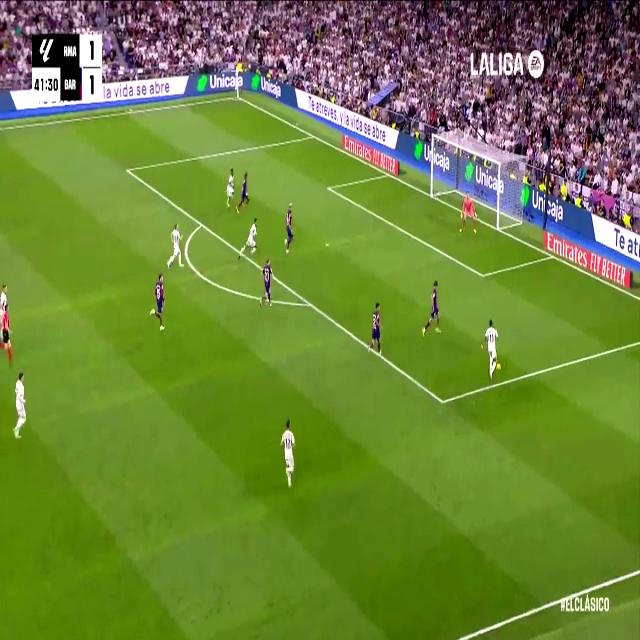bigarea_bottom_inner: (438, 389, 448, 414)
bigarea_top_inner: (123, 160, 132, 179)
bigarea_top_outter: (308, 128, 316, 142)
bottom_arc_area_intersection: (304, 292, 314, 314)
corner: (233, 91, 242, 103)
smallarea_top_inner: (326, 182, 331, 194)
top_arc_area_intersection: (197, 215, 205, 232)
